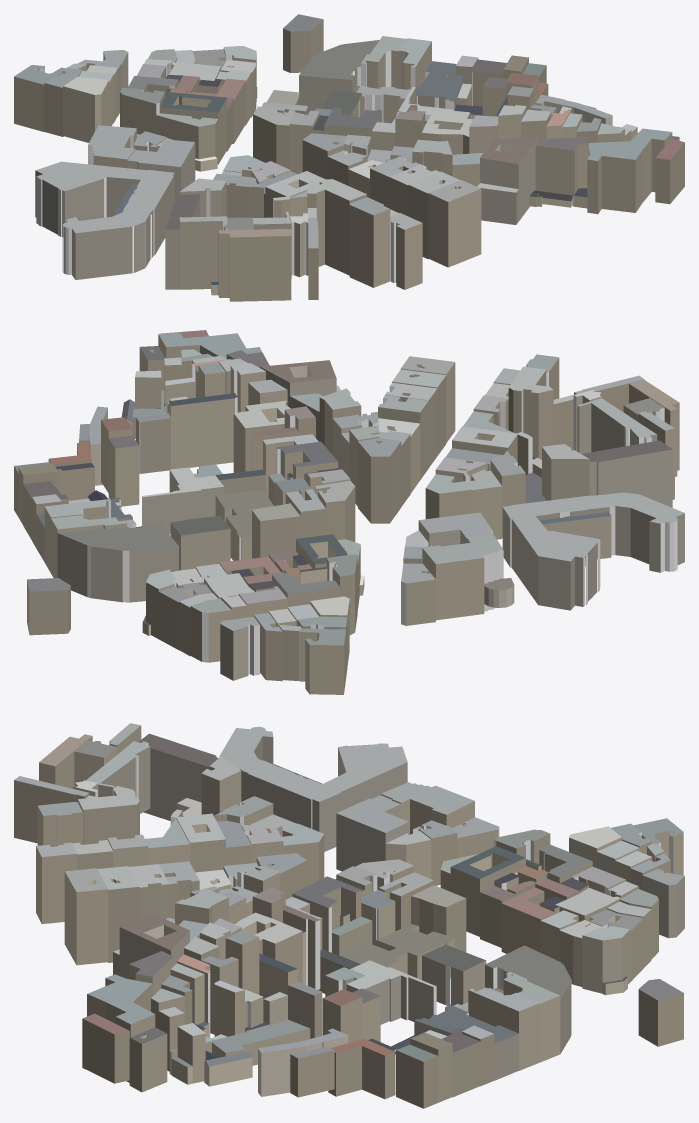
The picture shows the model from 3 angles, top to bottom: view 1: azimuth 30°, elevation 25°; view 2: azimuth 150°, elevation 25°; view 3: azimuth 270°, elevation 25°; orthographic projection. The views are drawn at different scales.
Visible parts, largest first — view 1: tuile; view 2: tuile; view 3: tuile.
Part boxes in pixels (box(x1,y1,x2,y2)): tuile: box(14, 14, 684, 301); tuile: box(14, 330, 684, 694); tuile: box(14, 723, 684, 1108).
Size of the model in its own units: 289 by 52.72 by 267.
